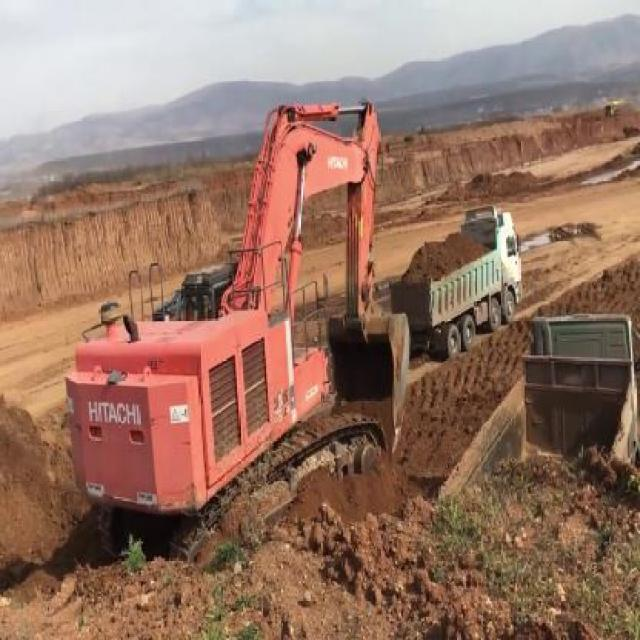Dump Truck: (436, 312, 639, 502), (389, 205, 522, 360)
Excavator: (65, 96, 410, 575)
